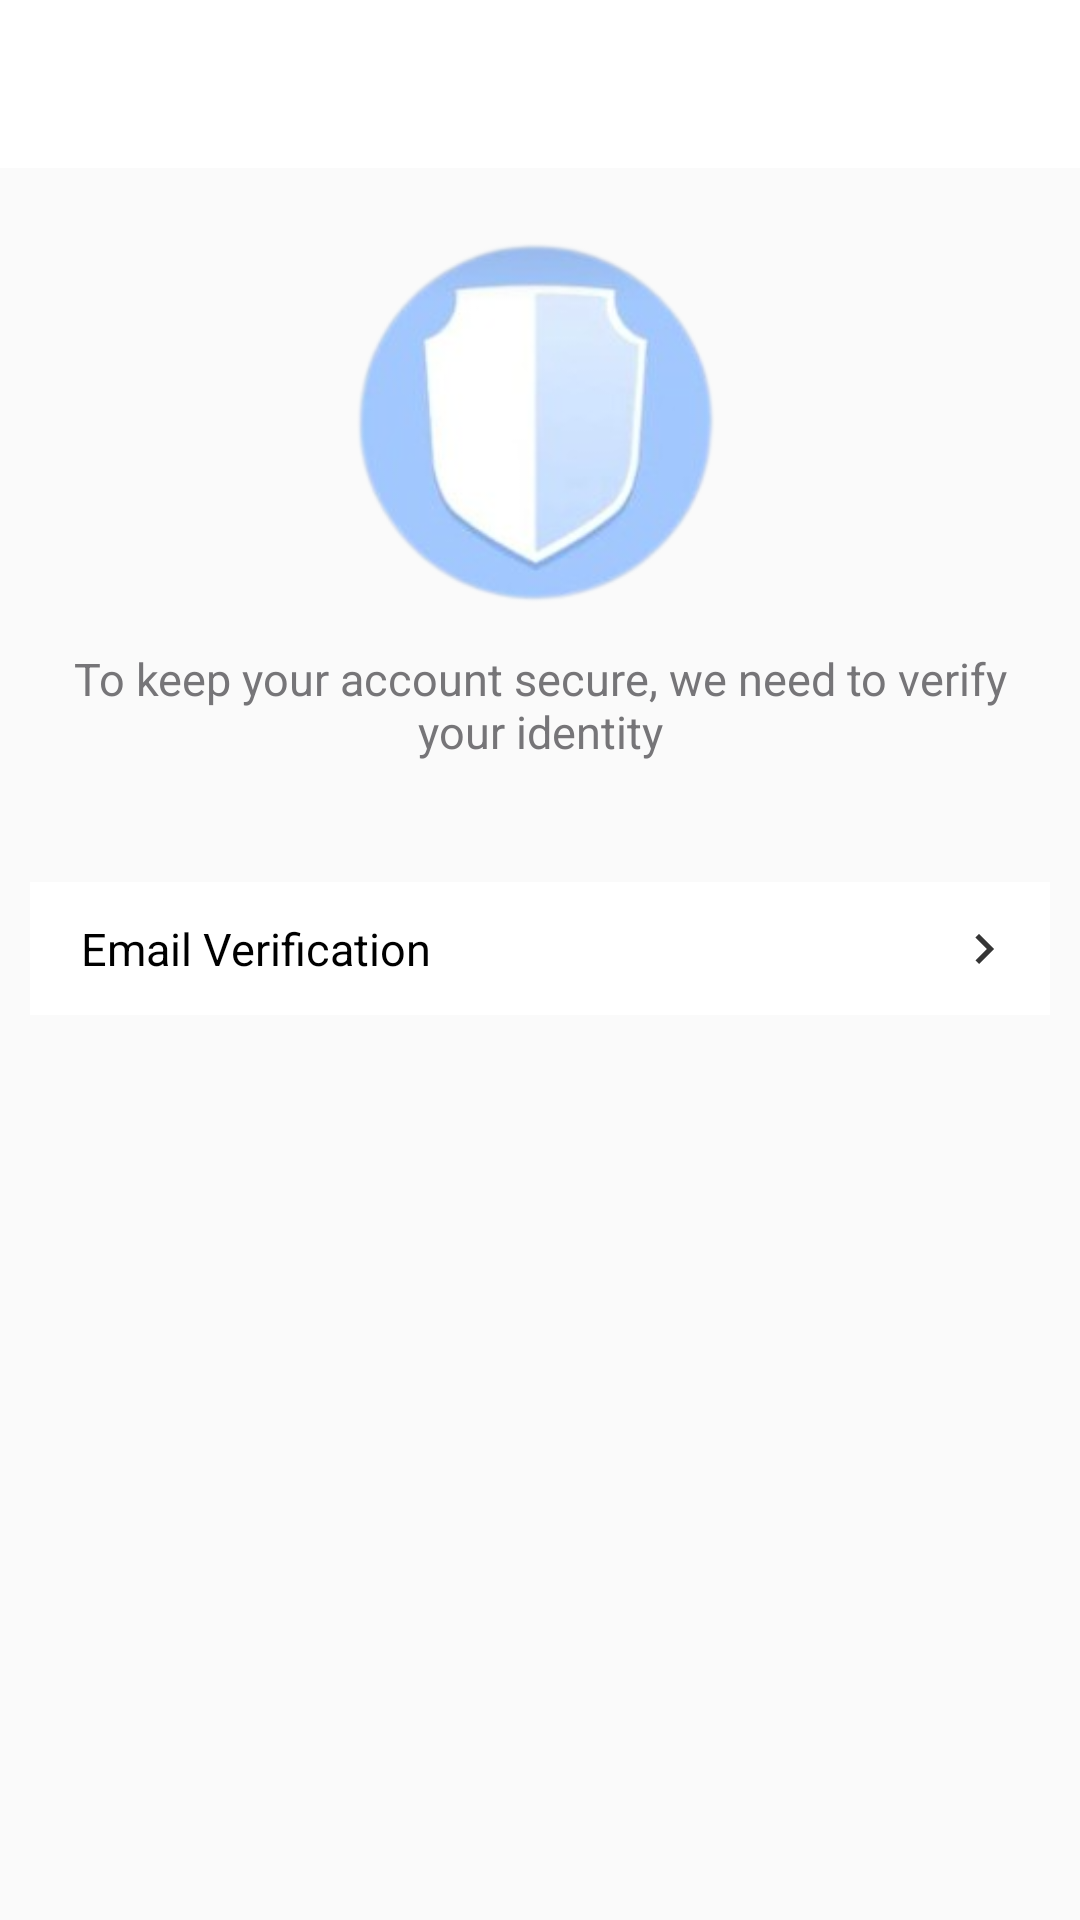

Where icons sit on this 1080px x 1920px app screen, as (x1, y1, x2, y2):
chevron right: (975, 934, 994, 964)
